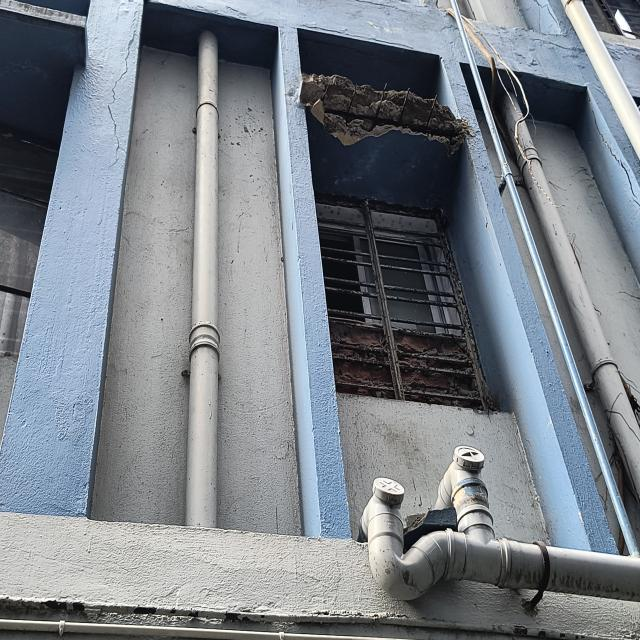crack: (93, 7, 144, 181), (576, 87, 640, 219), (290, 18, 417, 55), (177, 1, 252, 27), (348, 0, 428, 17), (529, 0, 557, 28)
spalling: (293, 73, 479, 154)
